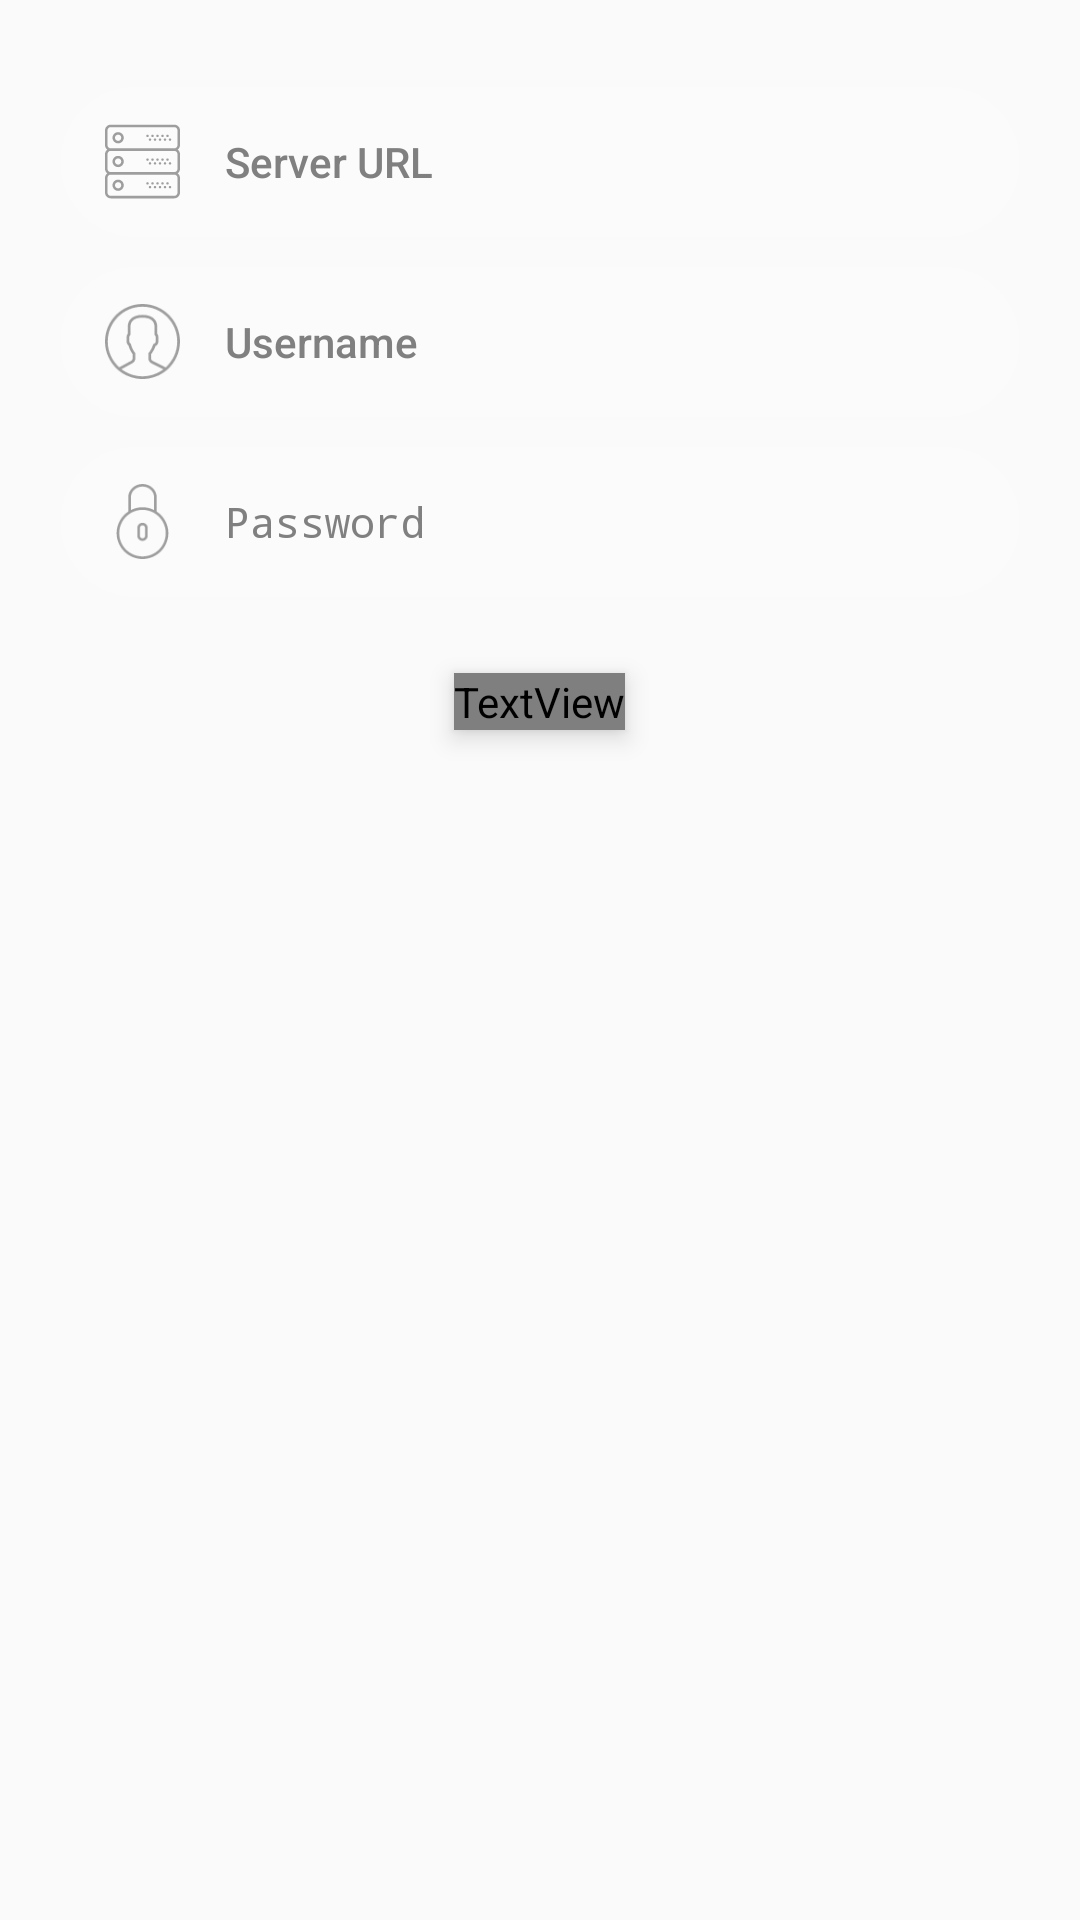

Icons on this 1080w x 1920h Android screen, each with the point to tap as (x=x, y=y):
lock icon: (x=142, y=521)
